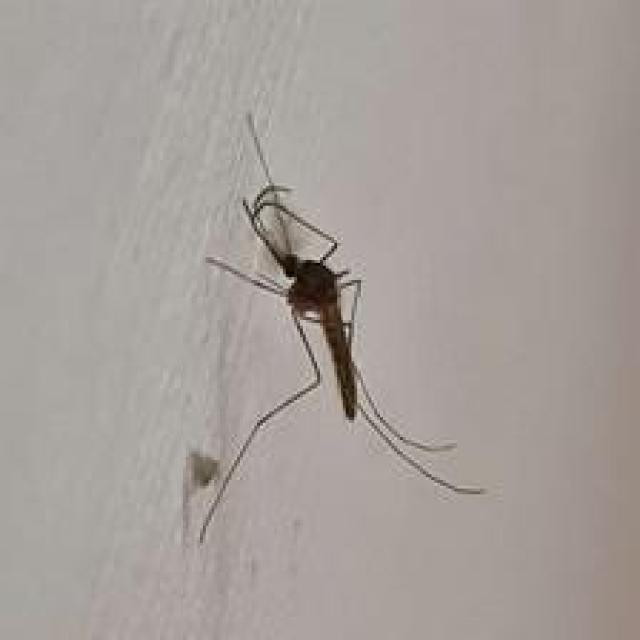Culex: (190, 110, 487, 544)
